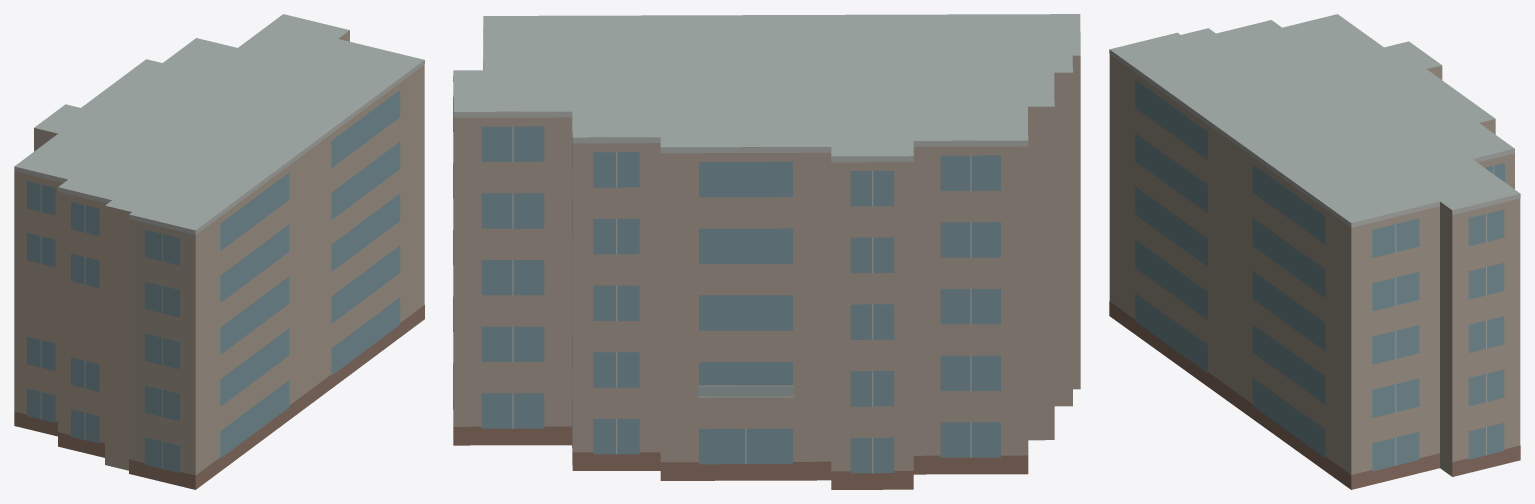
The model's file is survey-upis-33010707.glb.
3 renders of one model, left to right at view 1: azimuth 30°, elevation 25°; view 2: azimuth 150°, elevation 25°; view 3: azimuth 270°, elevation 25°, orthographic. The views are drawn at different scales.
Parts seen in each view (by area): view 1: survey-upis-33010707.tmp; view 2: survey-upis-33010707.tmp; view 3: survey-upis-33010707.tmp.
Part boxes in pixels (x1=…): survey-upis-33010707.tmp: x1=14, y1=14, x2=424, y2=489; survey-upis-33010707.tmp: x1=453, y1=14, x2=1080, y2=489; survey-upis-33010707.tmp: x1=1109, y1=14, x2=1520, y2=489.
Size of the model in its own units: 23.23 by 13.8 by 19.28.
